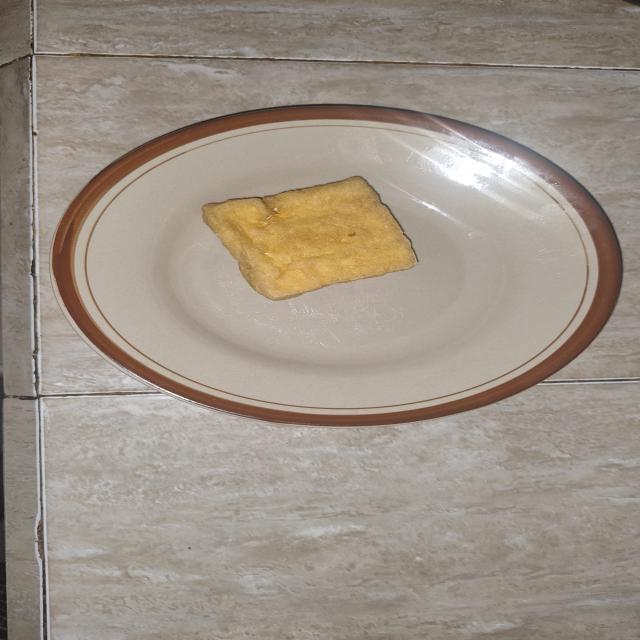tahu_goreng: (202, 177, 417, 300)
